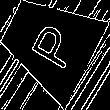P_NW: (20, 15, 78, 72)
